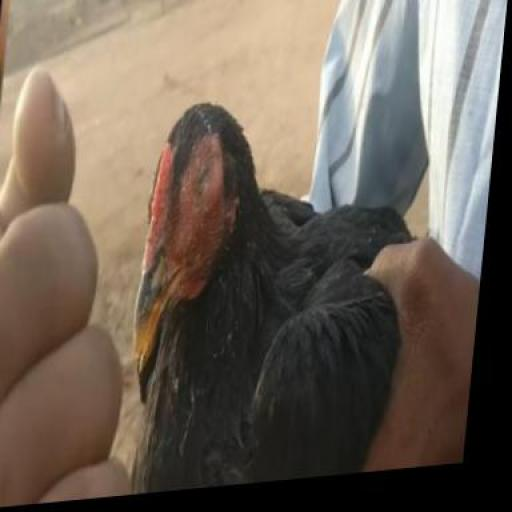disease: (160, 141, 238, 278)
